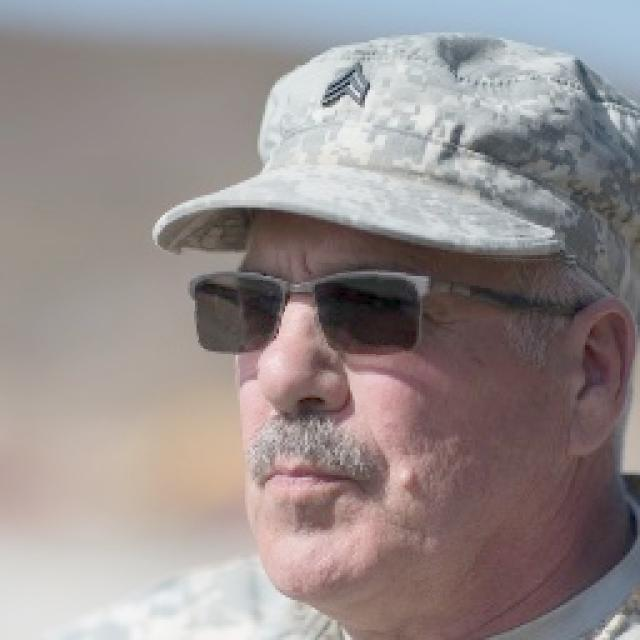glasses: (178, 251, 576, 377)
